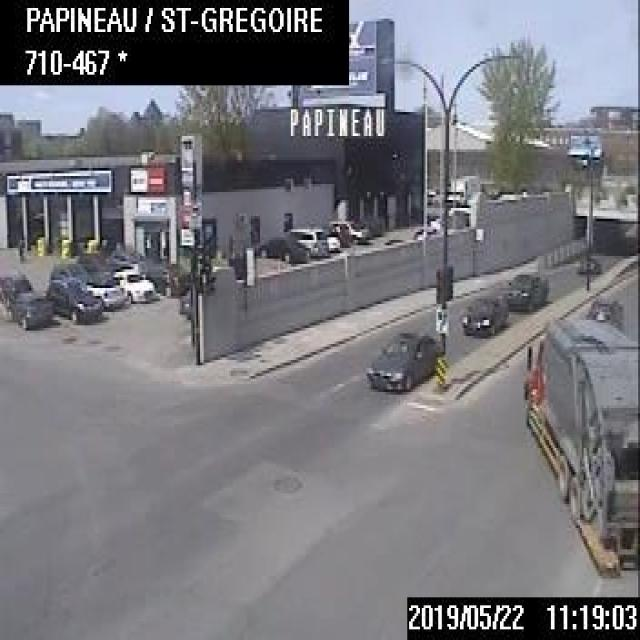vehicle: (520, 304, 638, 579), (364, 328, 438, 389), (45, 274, 100, 324), (460, 288, 504, 334), (503, 269, 549, 311), (11, 290, 55, 331), (142, 259, 189, 297), (114, 266, 156, 304), (85, 270, 124, 309), (256, 230, 308, 258), (284, 225, 327, 257), (580, 295, 622, 324), (76, 251, 112, 284), (0, 271, 33, 305), (328, 218, 369, 242), (48, 260, 89, 280), (108, 247, 144, 268), (576, 253, 596, 275), (324, 232, 339, 251)
